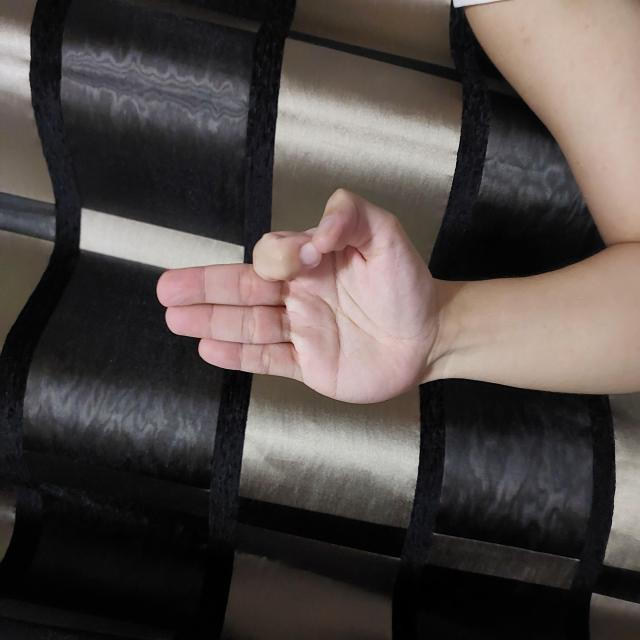F: (234, 154, 453, 442)
